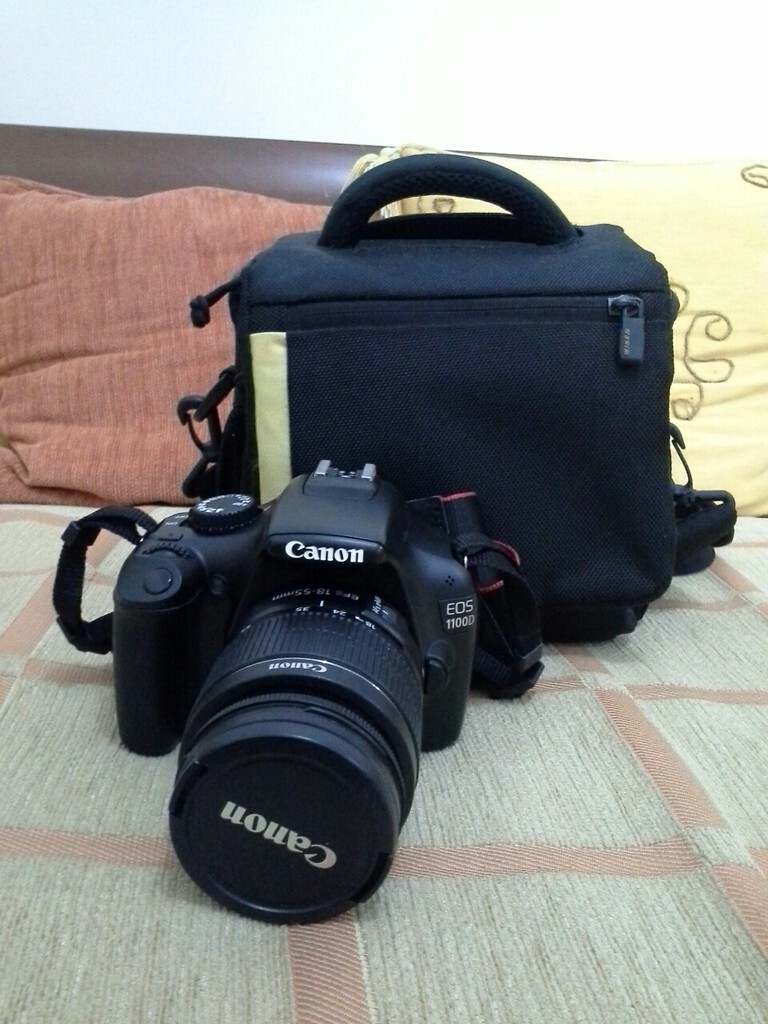kamera: (37, 455, 542, 942)
